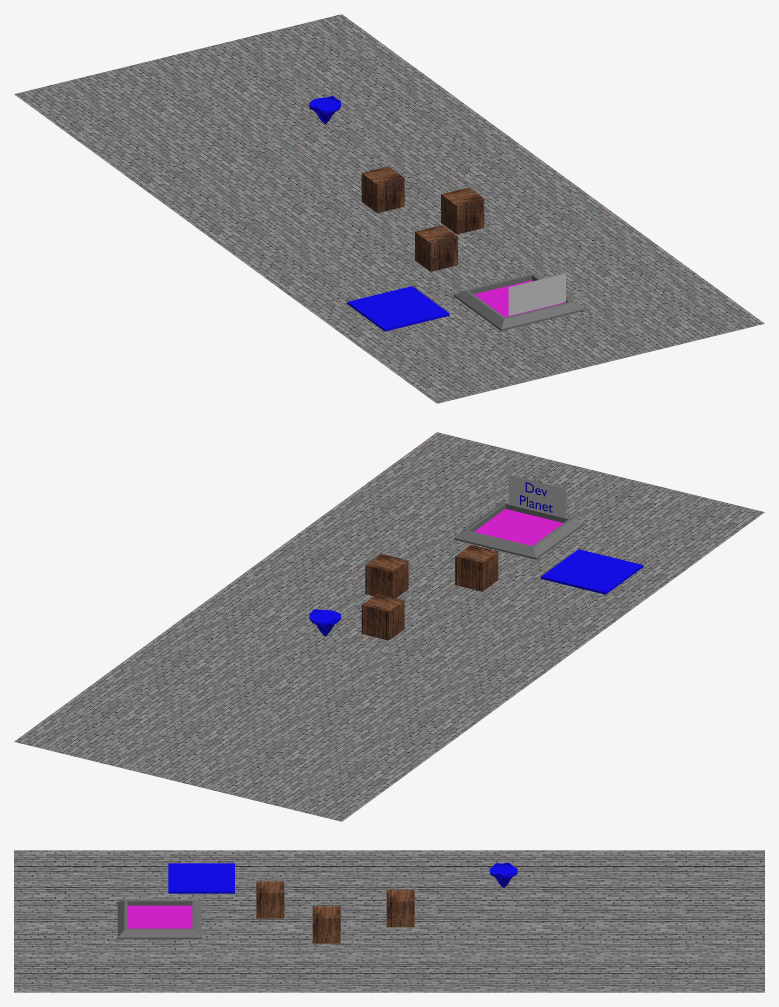
Rendered from baseTemplate.glb.
3 views of the same model, one above another, from view 1: azimuth 30°, elevation 25°; view 2: azimuth 150°, elevation 25°; view 3: azimuth 270°, elevation 25° (orthographic). The views are drawn at different scales.
Parts seen in each view (by area): view 1: Plane, _stm_stopTime_.001, Cube.003, Cube.001, Cube, Plane.006, Cube.002, _stm_portal_0_; view 2: Plane, _stm_stopTime_.001, Cube.003, _stm_portal_0_, Cube, Cube.002, Cube.001, Plane.006; view 3: Plane, _stm_stopTime_.001, Cube.003, _stm_portal_0_, Cube.001, Cube.002, Cube, platforme_roche.008.
Boxes of the visible parts, x1,y1,x2,y2 form: Plane: [14, 14, 764, 403]; _stm_stopTime_.001: [347, 286, 449, 331]; Cube.003: [454, 273, 583, 330]; Cube.001: [441, 187, 484, 234]; Cube: [361, 166, 404, 213]; Plane.006: [508, 273, 565, 315]; Cube.002: [415, 225, 457, 271]; _stm_portal_0_: [474, 280, 563, 317]; Plane: [14, 432, 764, 821]; _stm_stopTime_.001: [541, 549, 643, 594]; Cube.003: [454, 502, 583, 559]; _stm_portal_0_: [474, 509, 563, 545]; Cube: [361, 593, 404, 640]; Cube.002: [455, 545, 498, 591]; Cube.001: [365, 554, 408, 597]; Plane.006: [508, 475, 565, 517]; Plane: [14, 850, 764, 992]; _stm_stopTime_.001: [168, 863, 234, 893]; Cube.003: [117, 900, 201, 939]; _stm_portal_0_: [127, 905, 192, 928]; Cube.001: [312, 906, 340, 943]; Cube.002: [256, 881, 284, 918]; Cube: [386, 890, 414, 927]; platforme_roche.008: [489, 862, 517, 887].
Bounding box in the file's own units: 23.89 × 4.33 × 53.38.
Materials: 6 (2 with a texture image).
